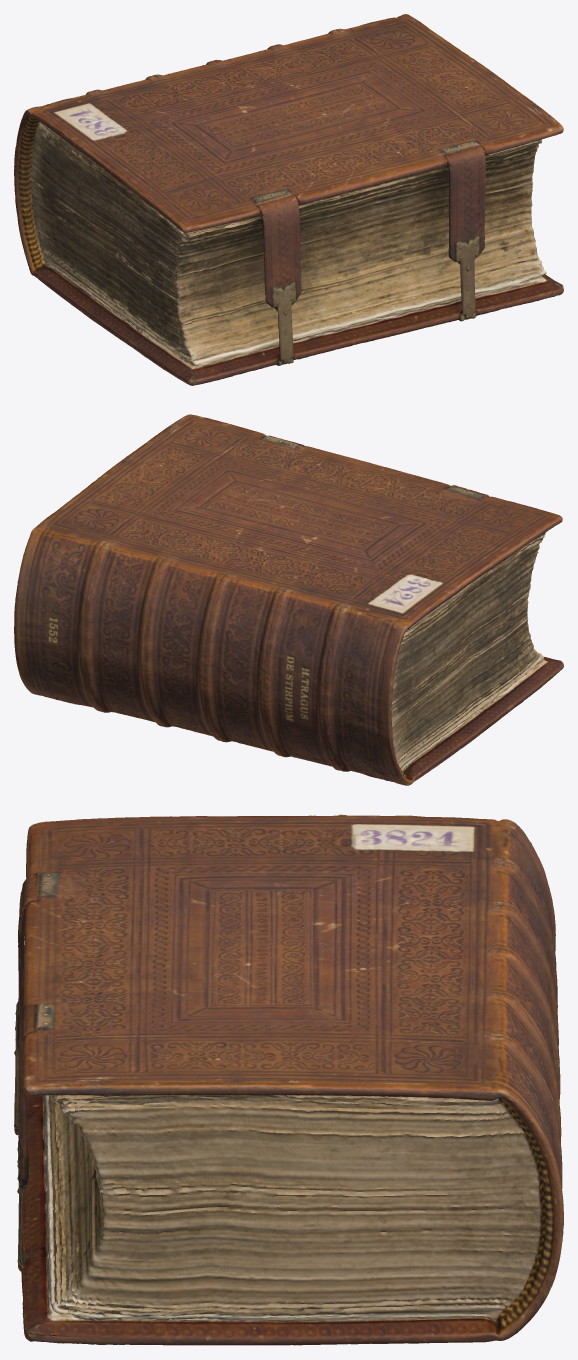
The picture shows the model from 3 angles, top to bottom: view 1: azimuth 30°, elevation 25°; view 2: azimuth 150°, elevation 25°; view 3: azimuth 270°, elevation 25°; orthographic projection. The views are drawn at different scales.
Parts seen in each view (by area): view 1: Object_10; view 2: Object_10; view 3: Object_10.
Part boxes in pixels (x1,y1,x2,y2): Object_10: [14, 14, 563, 385]; Object_10: [14, 414, 563, 785]; Object_10: [14, 814, 563, 1345].
Size of the model in its own units: 2.37 by 1.03 by 1.95.
1 material, 1 textured.
